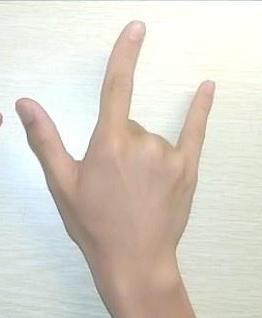back: (9, 16, 221, 250)
